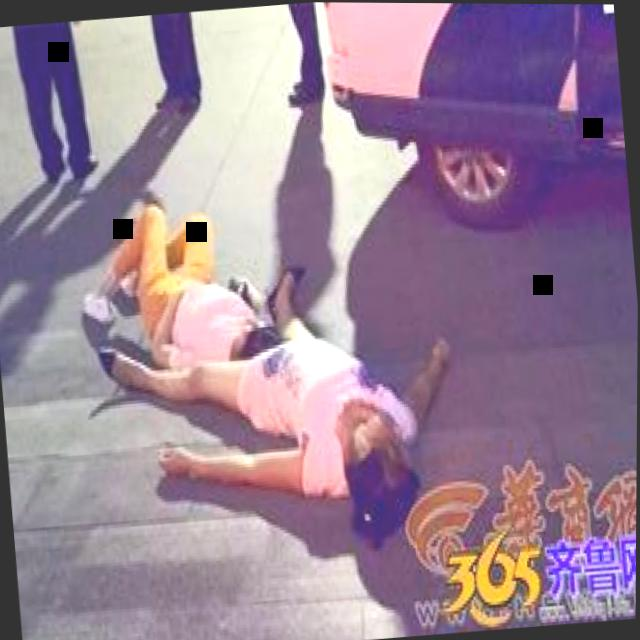Fall-Detected: (65, 151, 291, 399)
